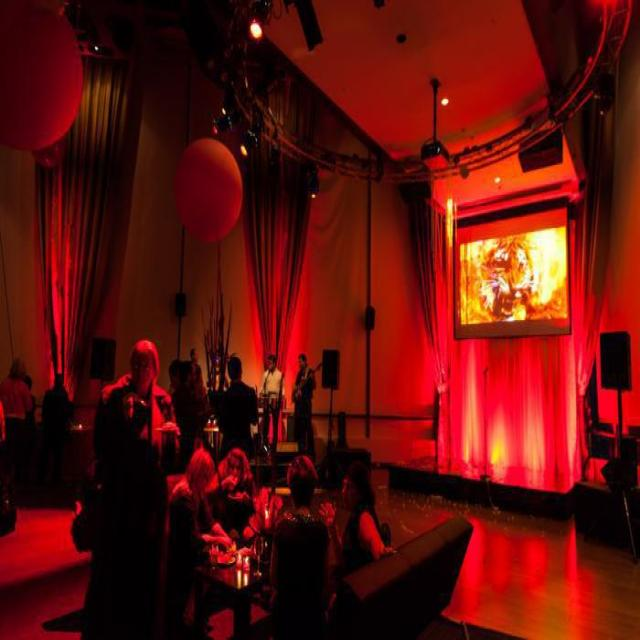other: (438, 185, 574, 428)
